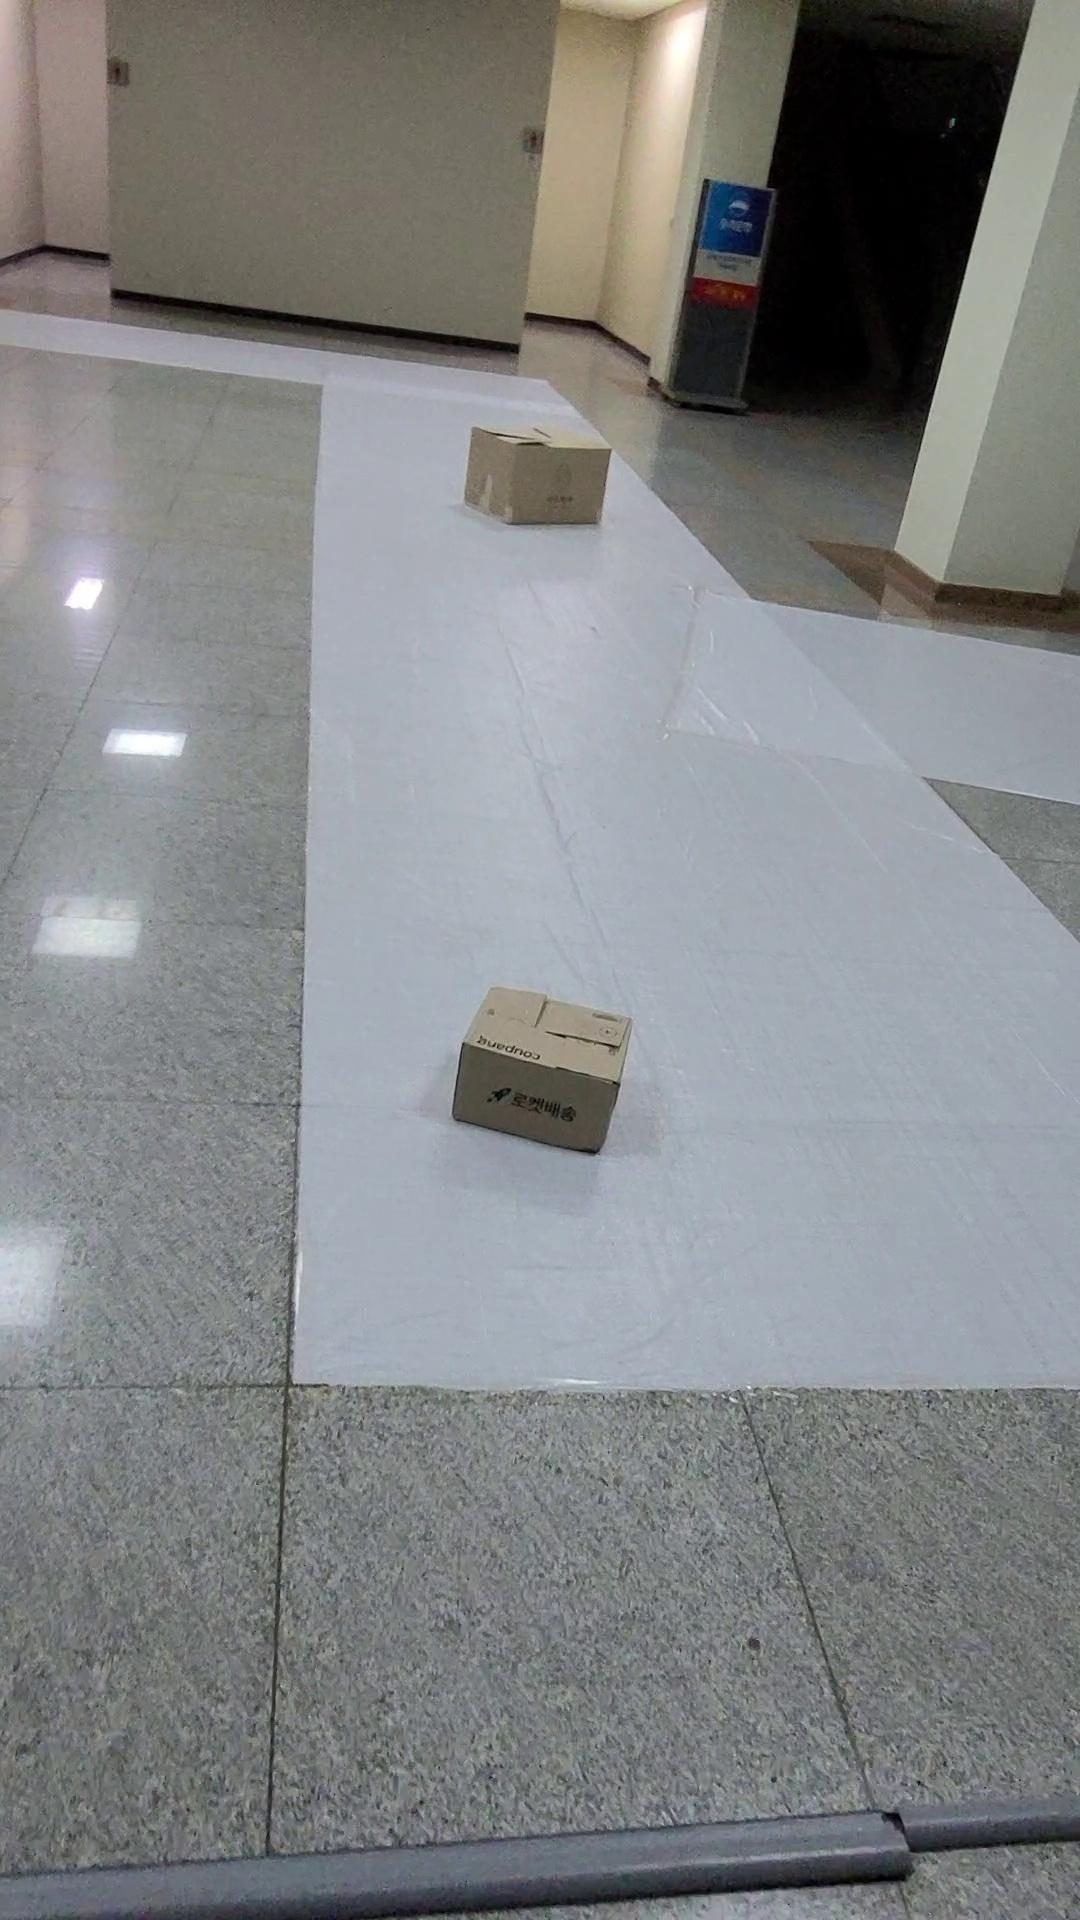Box: (448, 910, 673, 1192), (411, 407, 640, 545)
